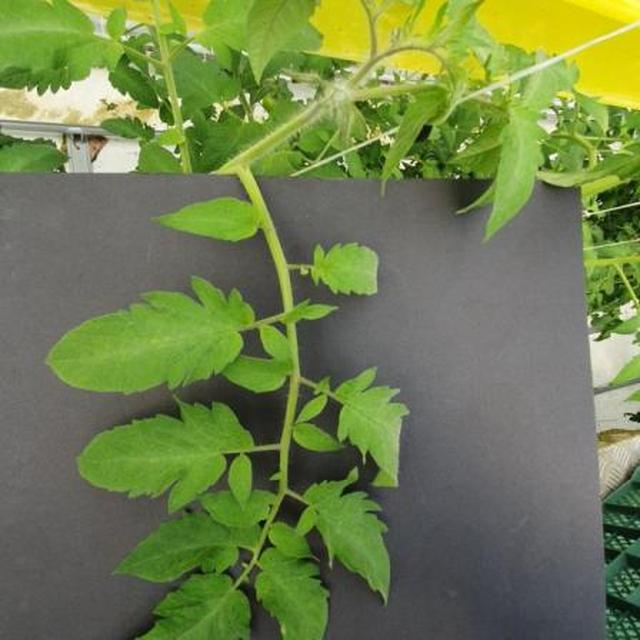Healthy Leaf: (98, 57, 533, 640)
